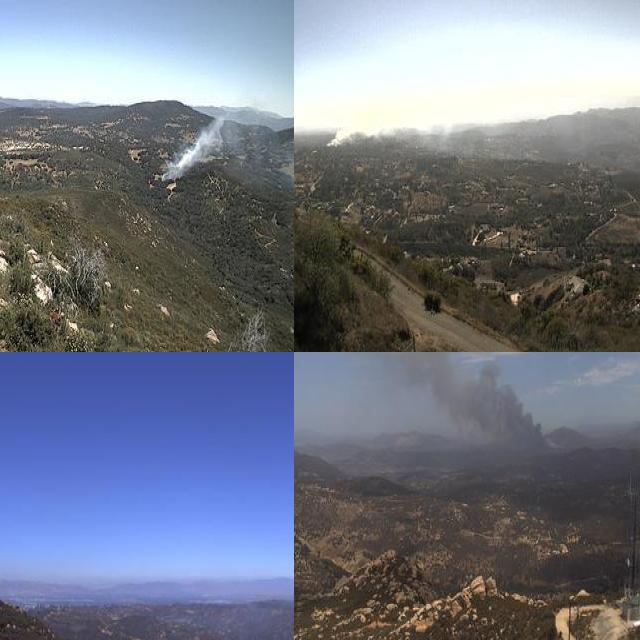smoke: (323, 352, 569, 459), (327, 104, 519, 154), (156, 112, 236, 182)
